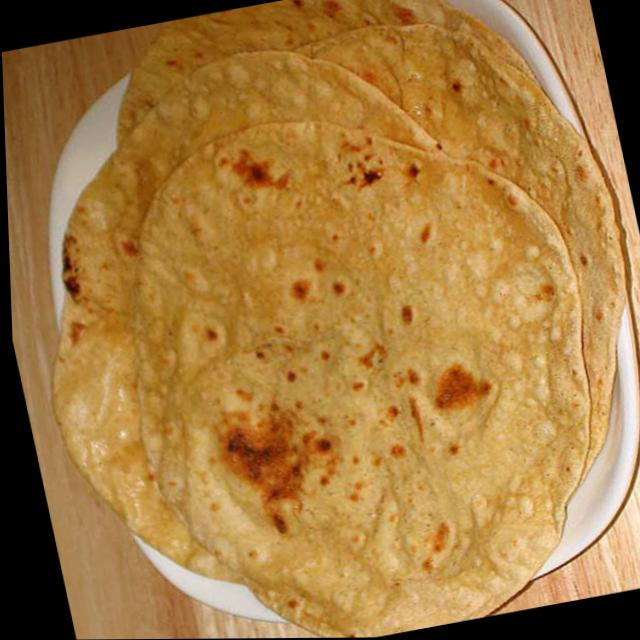CHAPATHI: (48, 0, 627, 638)
